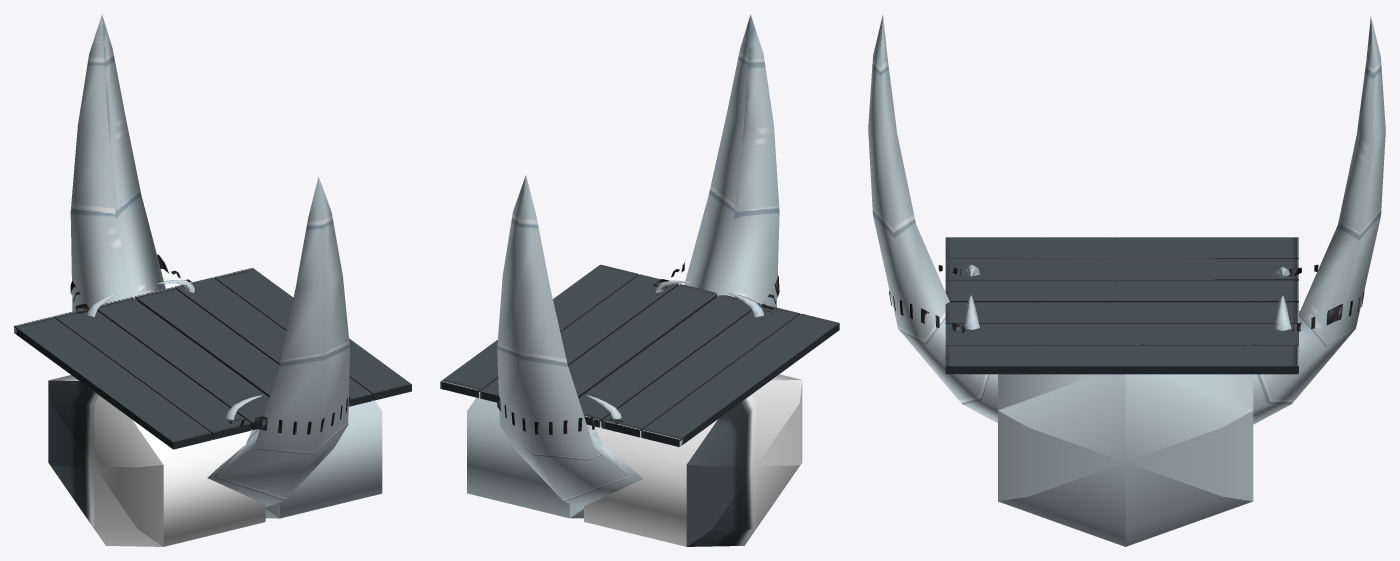
File: Bridge final 2.fbx
3 views of the same model, side by side, from view 1: azimuth 30°, elevation 25°; view 2: azimuth 150°, elevation 25°; view 3: azimuth 270°, elevation 25° (orthographic). The views are drawn at different scales.
Visible parts, largest first — view 1: pCylinder2, bone2, bone1, pCube1, pCube2, pCylinder1, pCube3, pCube4, pCube6, pCube5; view 2: pCylinder2, bone1, bone2, pCube1, pCube2, pCylinder1, pCube3, pCube4, pCube6, pCube5; view 3: pCylinder1, bone1, bone2, pCube6, pCube3, pCube2, pCube1, pCube5, pCube4.
Boxes of the visible parts, x1,y1,x2,y2 form: pCylinder2: [48, 375, 265, 546]; bone2: [207, 176, 350, 506]; bone1: [70, 14, 194, 316]; pCube1: [14, 316, 211, 449]; pCube2: [53, 307, 251, 439]; pCylinder1: [265, 400, 382, 518]; pCube3: [97, 297, 269, 430]; pCube4: [134, 287, 279, 397]; pCube6: [214, 267, 411, 400]; pCube5: [174, 277, 372, 406]; pCylinder2: [584, 374, 802, 546]; bone1: [497, 175, 643, 508]; bone2: [653, 14, 779, 317]; pCube1: [641, 313, 839, 447]; pCube2: [601, 304, 799, 437]; pCylinder1: [467, 397, 583, 518]; pCube3: [578, 295, 759, 427]; pCube4: [568, 284, 717, 398]; pCube6: [440, 264, 638, 397]; pCube5: [480, 274, 678, 402]; pCylinder1: [998, 374, 1253, 546]; bone1: [1253, 17, 1385, 424]; bone2: [868, 15, 997, 423]; pCube6: [945, 345, 1298, 374]; pCube3: [945, 280, 1298, 302]; pCube2: [945, 258, 1298, 280]; pCube1: [945, 237, 1298, 258]; pCube5: [945, 324, 1298, 345]; pCube4: [945, 302, 1298, 323].
Bounding box in the file's own units: 5.99 × 9.96 × 9.93.
